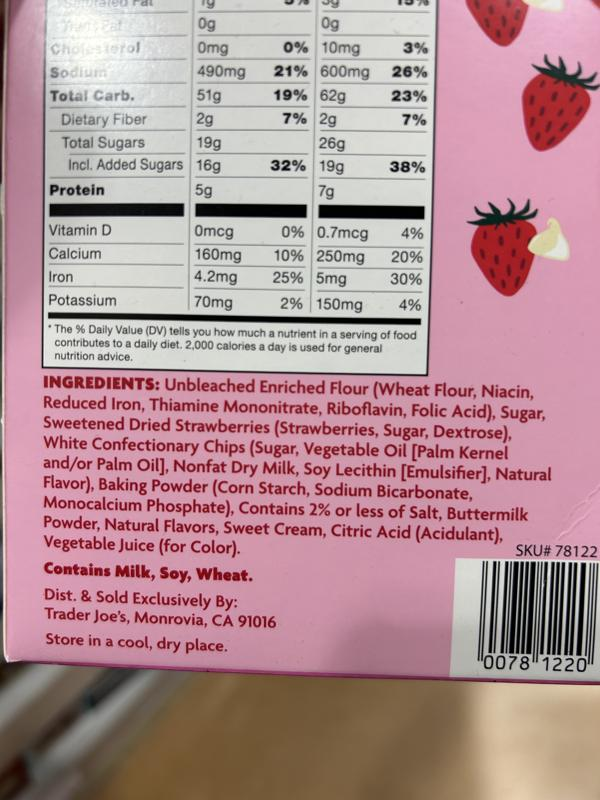ingredients: (39, 372, 555, 560)
